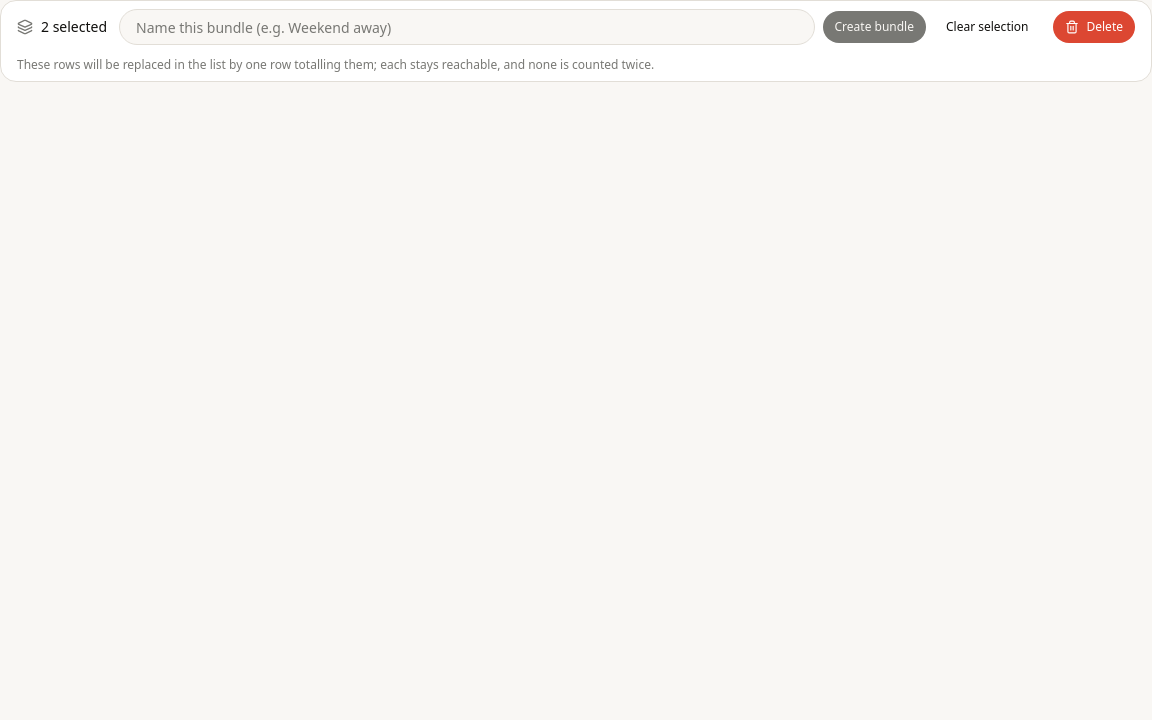
Test case: BundleActionBar › delete (issue #86) › deletes nothing and keeps the selection when the dialog is cancelled
What coordinates should you click on to do the following:
click the button "Delete"
I would click on:
 (1094, 27)
Its box is 1052,11 -> 1135,43.
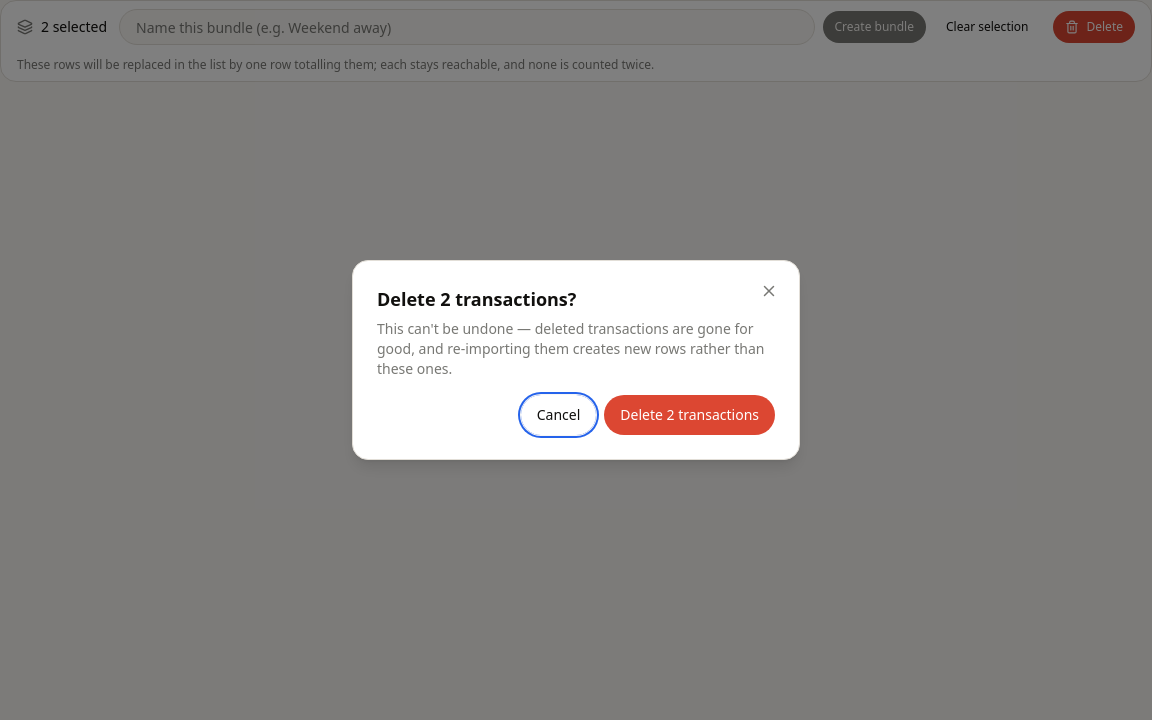
What coordinates should you click on to do the following:
click the button "Cancel"
I would click on:
 (558, 415)
Its box is 521,395 -> 596,435.
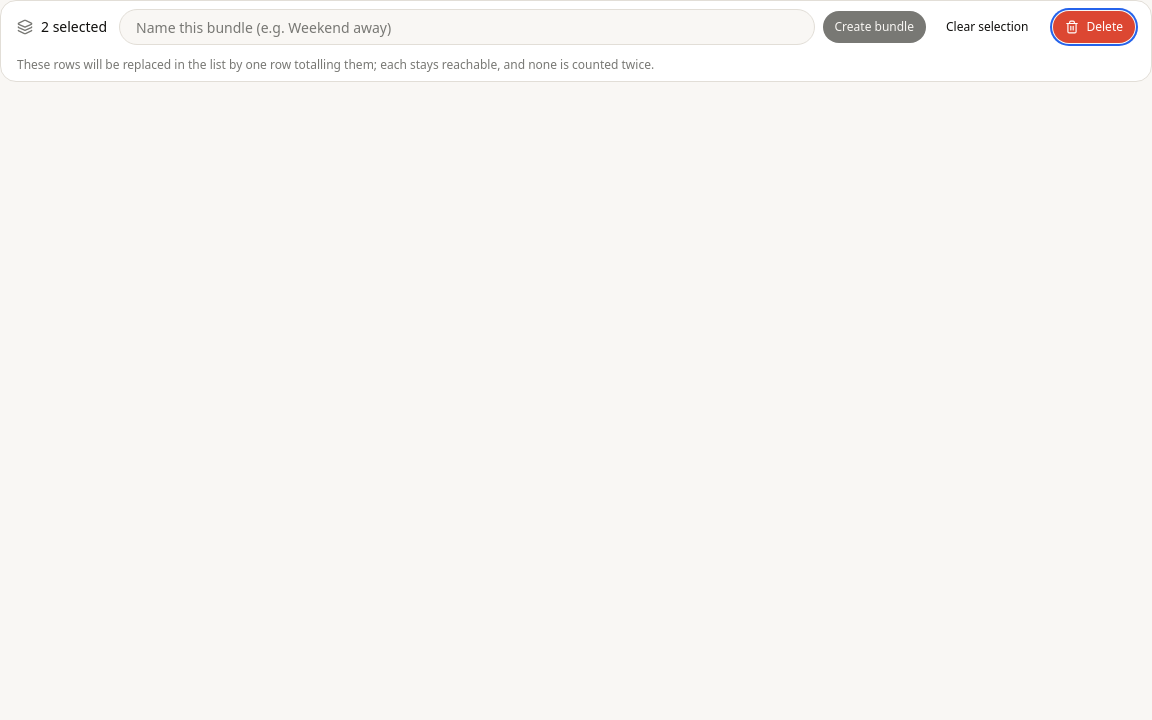
expect the text "2 selected" is shown: met, box 17,17 -> 107,37
expect the dialog is gone: met
